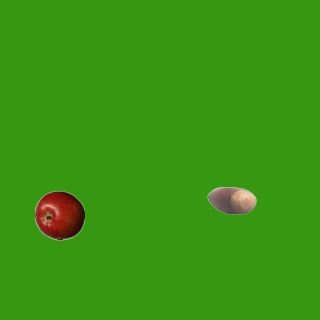Apple Braeburn: (34, 190, 84, 240)
Hazelnut: (206, 175, 256, 225)
